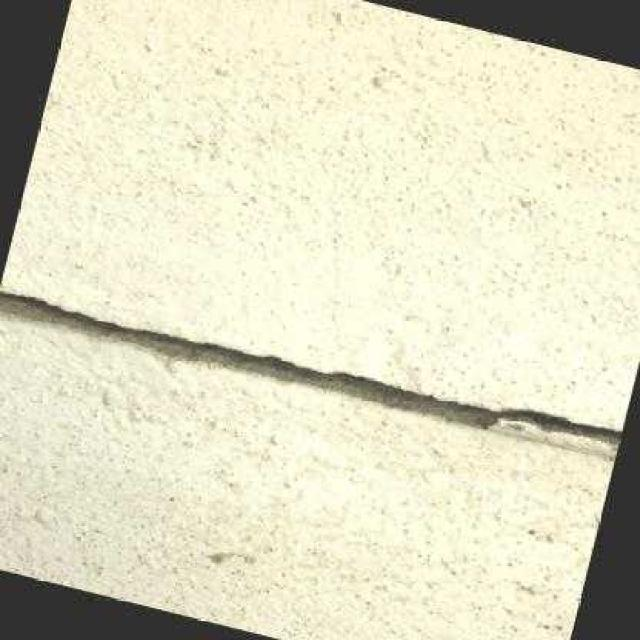D00: (0, 292, 622, 446)
